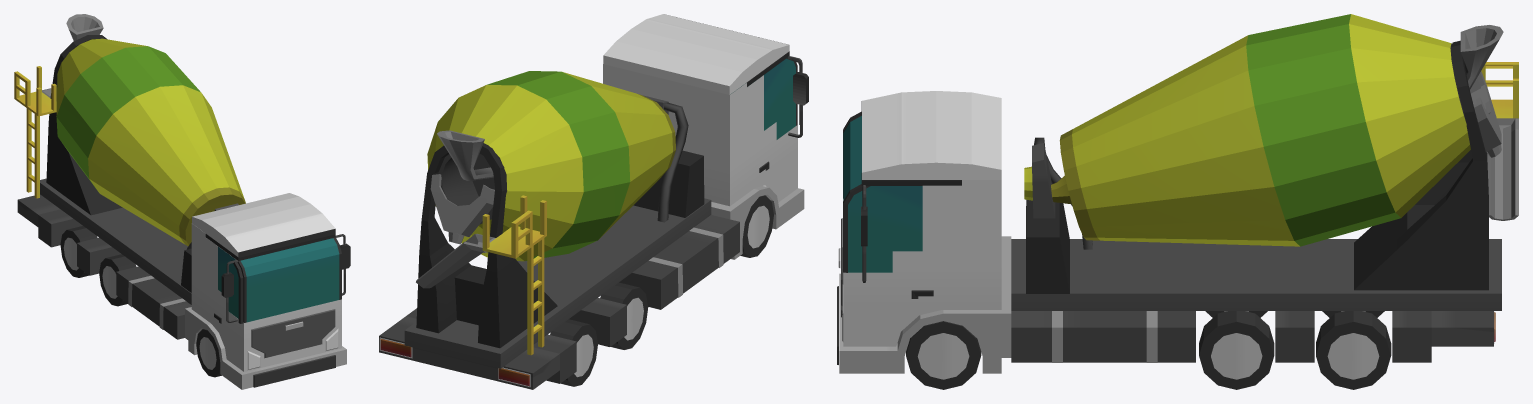
File: Demo7.gltf
3 renders of one model, left to right at view 1: azimuth 30°, elevation 25°; view 2: azimuth 150°, elevation 25°; view 3: azimuth 270°, elevation 25°, orthographic. The views are drawn at different scales.
Visible parts, largest first — view 1: 工程车12; view 2: 工程车12; view 3: 工程车12.
Part boxes in pixels (<box>): 工程车12: <box>14,14,350,389</box>; 工程车12: <box>379,14,808,389</box>; 工程车12: <box>837,14,1518,389</box>.
Size of the model in its own units: 1.82 by 2.99 by 5.63.
1 material, 1 textured.
